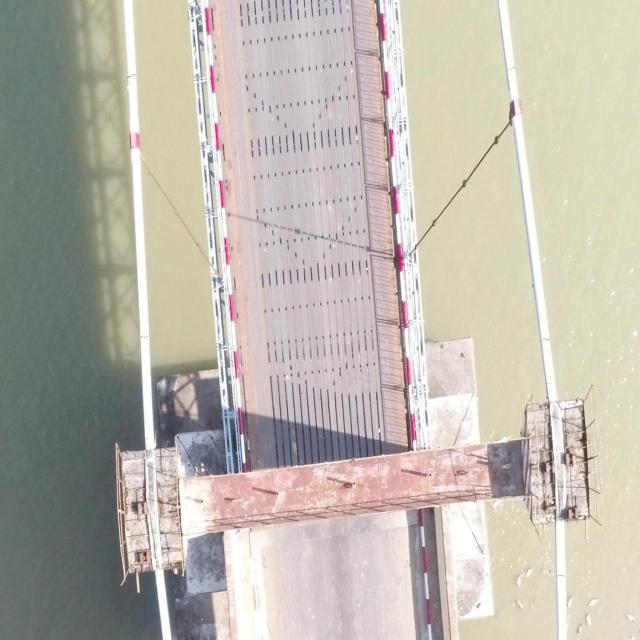crack: (127, 72, 137, 79), (506, 66, 515, 72), (540, 337, 550, 342), (140, 334, 148, 339), (557, 574, 565, 577)
